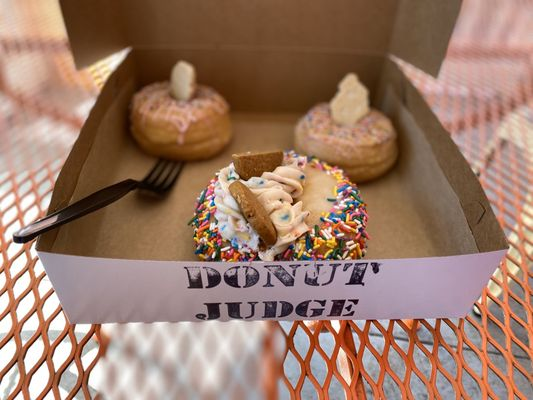burger: (11, 159, 185, 243)
sandwich: (11, 158, 186, 243)
